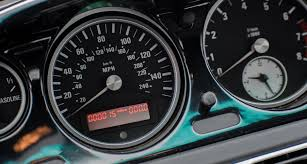Digital_Meter: (84, 99, 150, 141)
